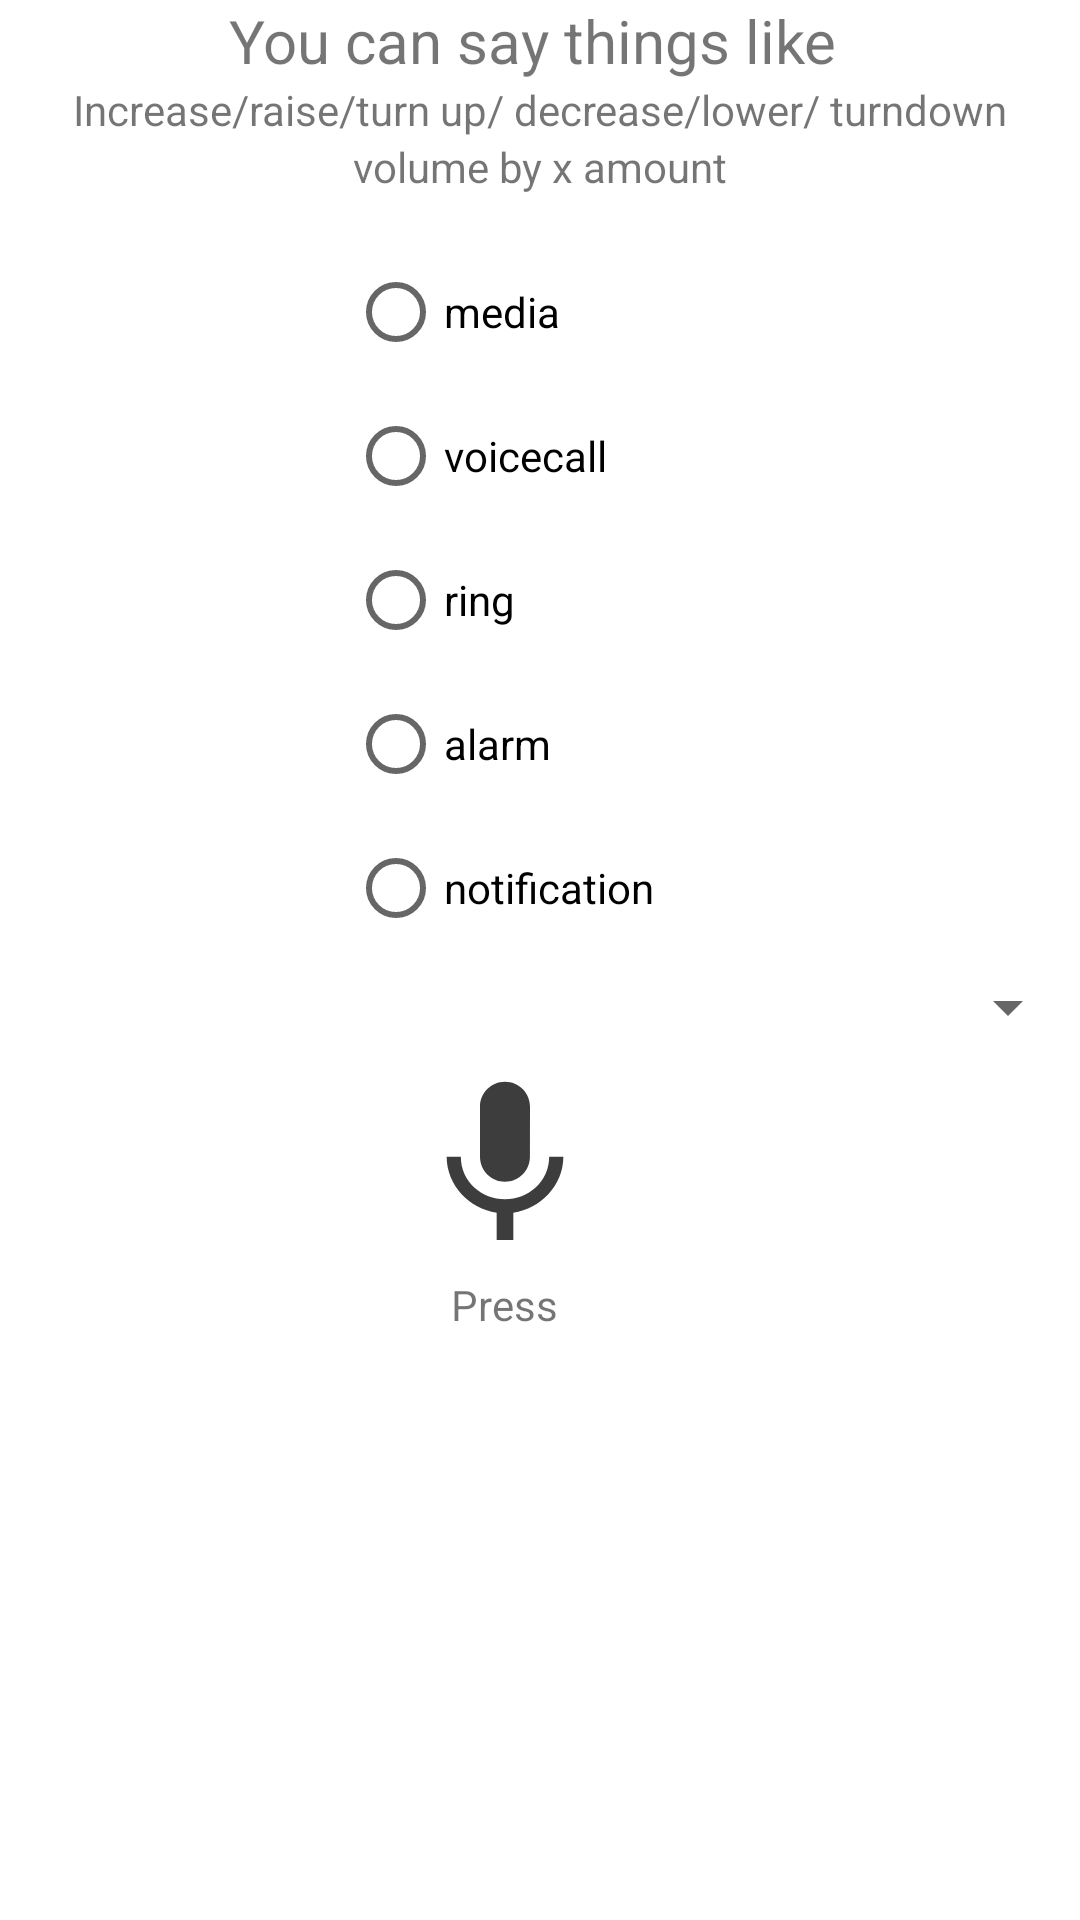

Screen size 1080w x 1920h. Icon name, then its box in pixels as [left=x1, top=y1, right=x2, bottom=y2]:
microphone: [left=446, top=1081, right=564, bottom=1240]
